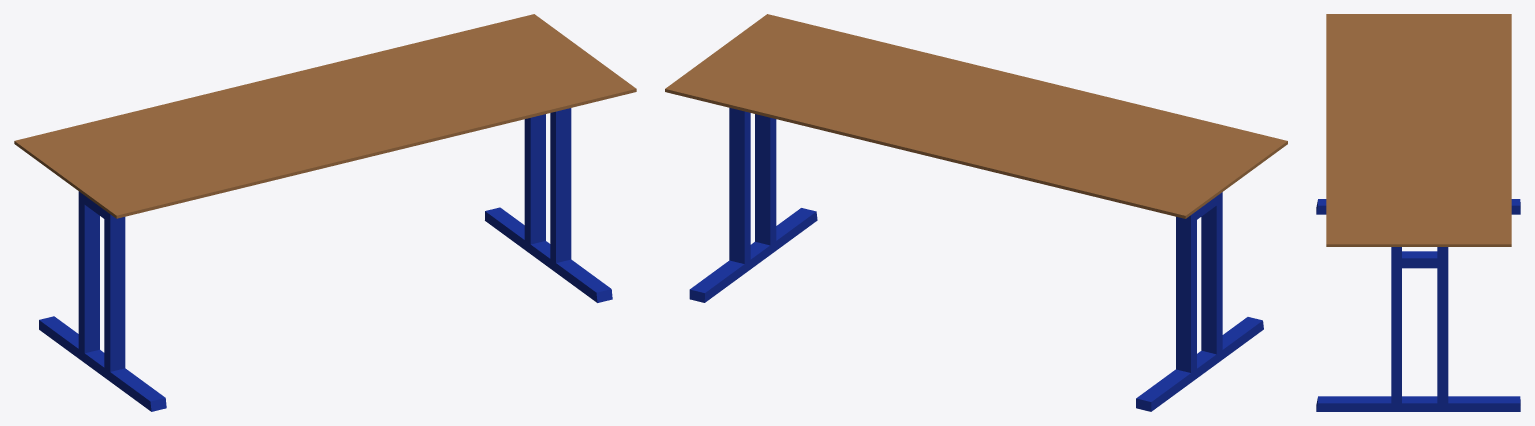
Rendered from schoolTableType1.glb.
The picture shows the model from 3 angles, left to right: view 1: azimuth 30°, elevation 25°; view 2: azimuth 150°, elevation 25°; view 3: azimuth 270°, elevation 25°; orthographic projection. The views are drawn at different scales.
Visible parts, largest first — view 1: Cube.002; view 2: Cube.002; view 3: Cube.002.
Part boxes in pixels (<box>): Cube.002: <box>14,14,636,411</box>; Cube.002: <box>665,14,1287,411</box>; Cube.002: <box>1316,14,1520,411</box>.
Bounding box in the file's own units: 7.38 × 2.7 × 2.77.
